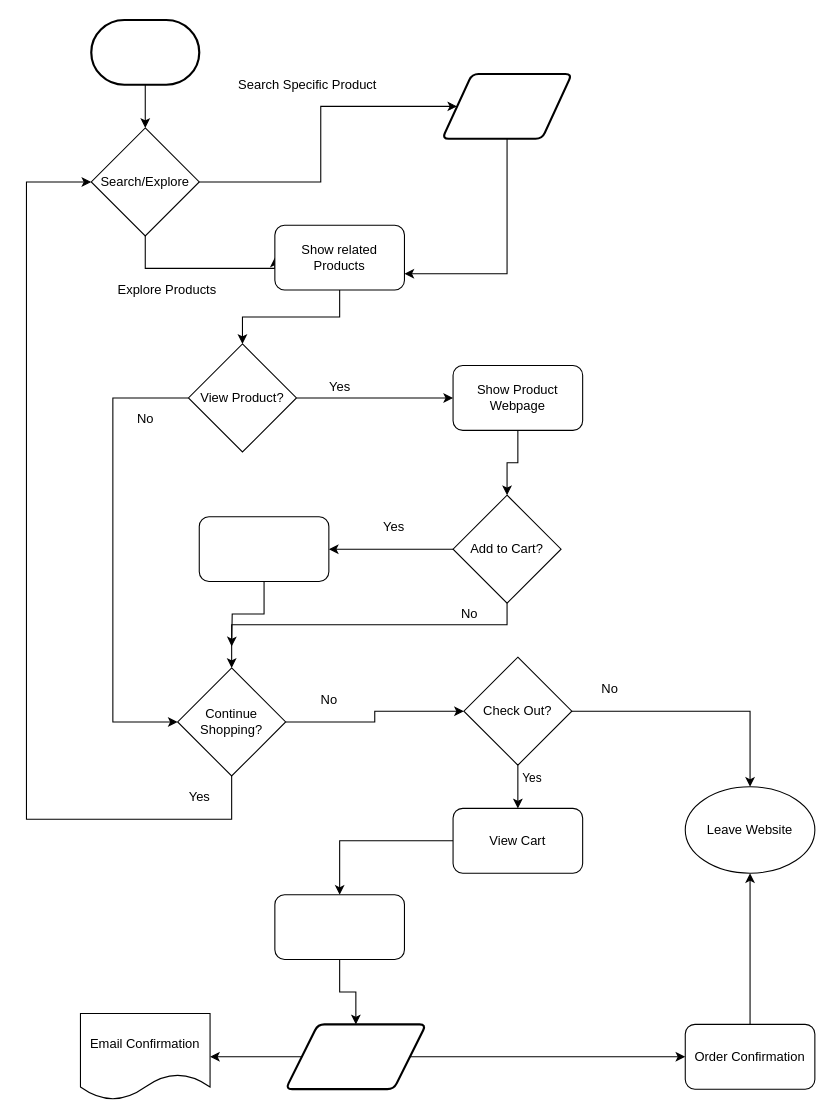
The diagram is 834 pixels wide and 1119 high, and some of its shapes have lost their labels. Here are the shapes that lost their labels. From the top down, the centre of each, then its label:
the point at 145,51: Enter Website
the point at 506,105: Input to Search
the point at 263,549: Item Added to Cart
the point at 339,927: View Payment
the point at 355,1056: Input Payment Infor
